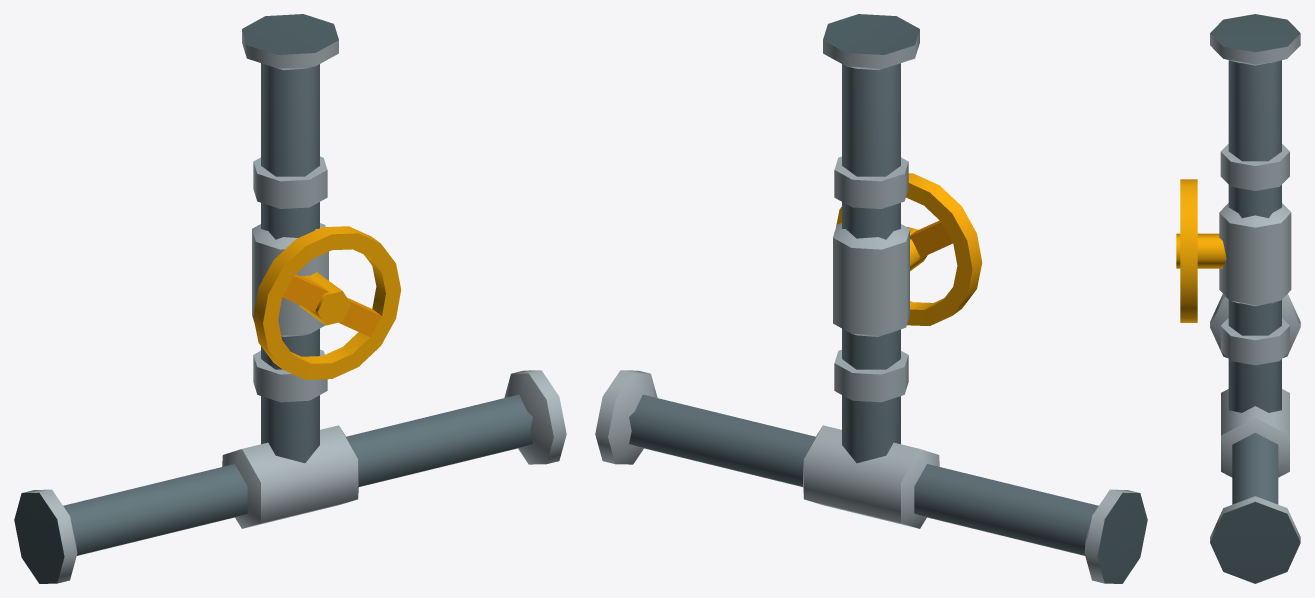
File: Pipe_005.fbx
3 renders of one model, left to right at view 1: azimuth 30°, elevation 25°; view 2: azimuth 150°, elevation 25°; view 3: azimuth 270°, elevation 25°, orthographic. The views are drawn at different scales.
Parts seen in each view (by area): view 1: Pipe_005; view 2: Pipe_005; view 3: Pipe_005.
Boxes of the visible parts, bbox=[...] form: Pipe_005: bbox=[14, 14, 566, 583]; Pipe_005: bbox=[595, 14, 1147, 583]; Pipe_005: bbox=[1176, 14, 1300, 583].
Bounding box in the file's own units: 147 × 34.98 × 137.
